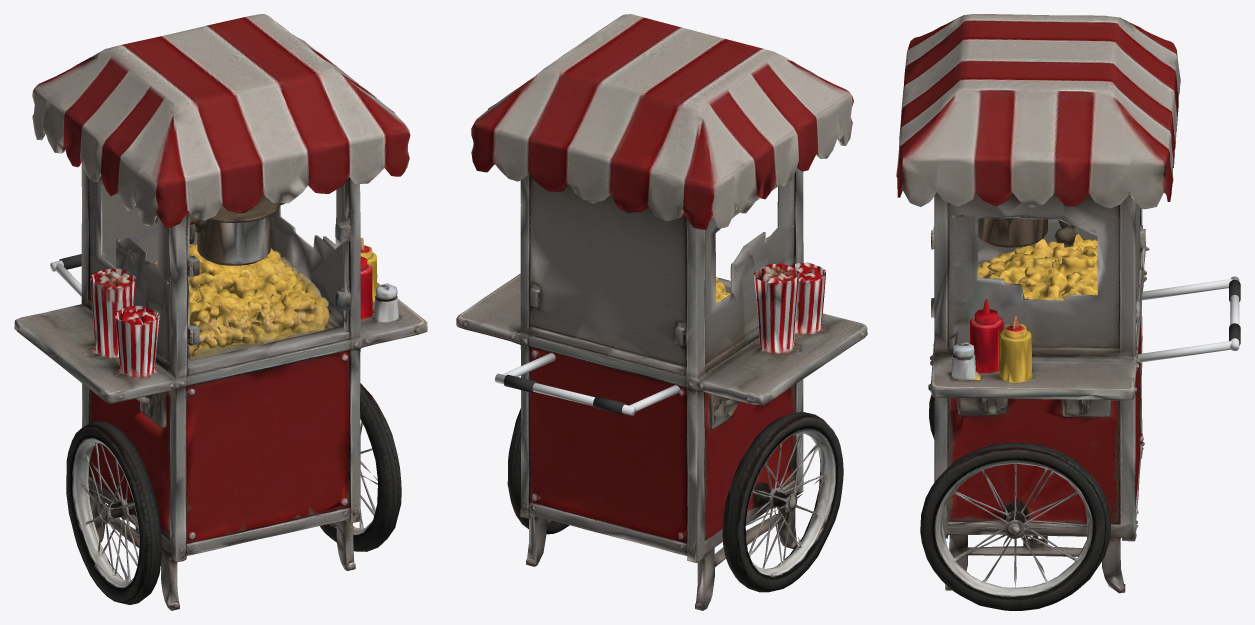
File: carrinho-pipoca.glb
The picture shows the model from 3 angles, left to right: view 1: azimuth 30°, elevation 25°; view 2: azimuth 150°, elevation 25°; view 3: azimuth 270°, elevation 25°; orthographic projection.
Parts seen in each view (by area): view 1: Carrinho_Body, Wheel_Main_R_Tyre, Wheel_Main_L_Tyre; view 2: Carrinho_Body, Wheel_Main_R_Tyre, Wheel_Main_L_Tyre, Handle_Bar; view 3: Carrinho_Body, Wheel_Main_L_Tyre, Handle_Arm_L, Handle_Arm_R.
Part boxes in pixels (<box>): Carrinho_Body: <box>14,14,427,610</box>; Wheel_Main_R_Tyre: <box>66,421,161,604</box>; Wheel_Main_L_Tyre: <box>320,383,401,551</box>; Carrinho_Body: <box>456,14,867,610</box>; Wheel_Main_R_Tyre: <box>726,412,843,592</box>; Wheel_Main_L_Tyre: <box>507,408,569,534</box>; Handle_Bar: <box>495,373,635,415</box>; Carrinho_Body: <box>896,14,1180,593</box>; Wheel_Main_L_Tyre: <box>920,442,1110,610</box>; Handle_Arm_L: <box>1138,341,1232,362</box>; Handle_Arm_R: <box>1142,279,1232,300</box>.
Size of the model in its own units: 1.37 by 2.05 by 1.27.
Materials: 3 (1 with a texture image).
